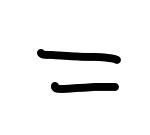eqv: (37, 49, 121, 93)
